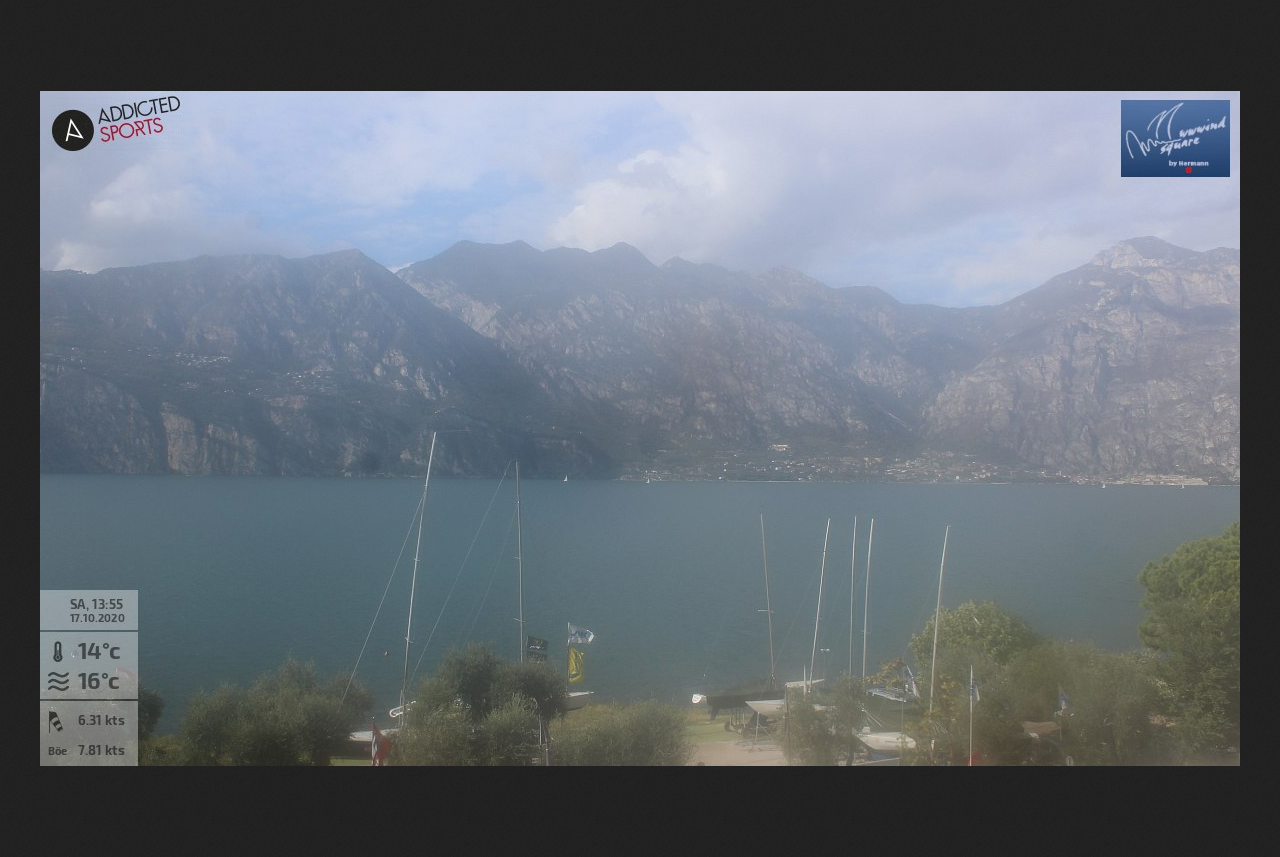yes: (567, 648, 584, 681), (566, 623, 593, 643)
